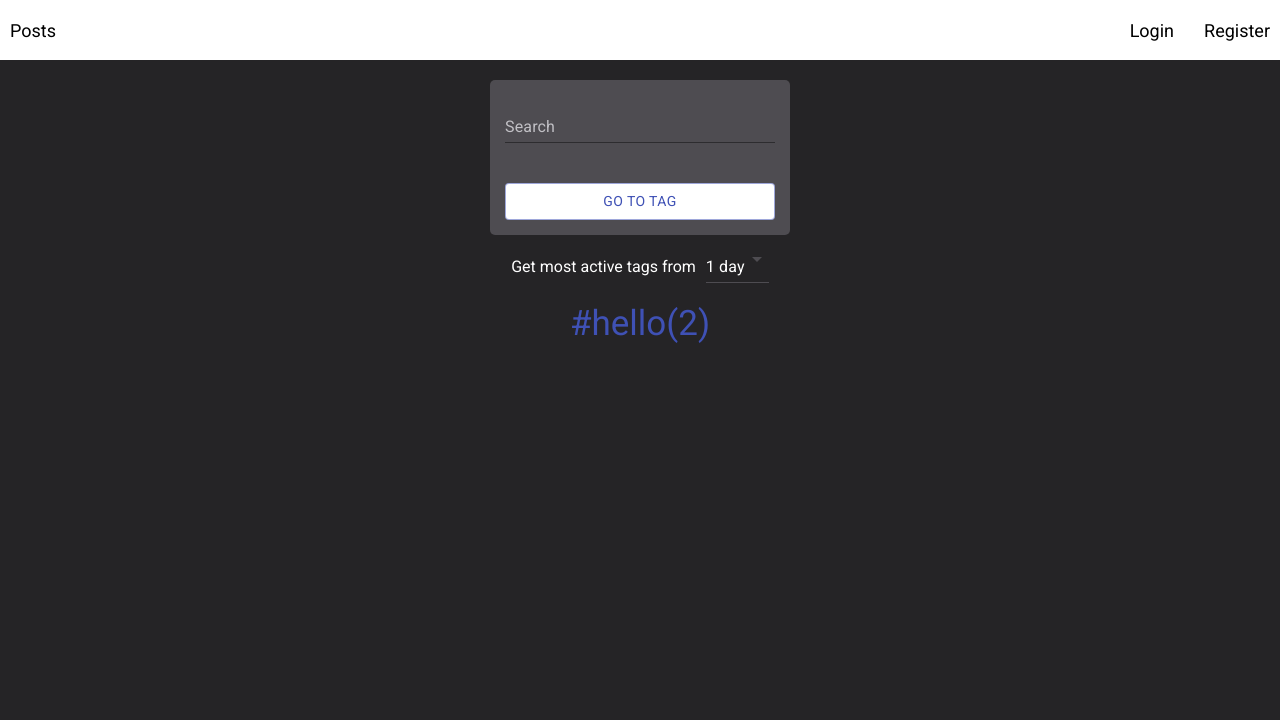
Test: Test correct register
Click the link with test id "registerPage" at (1237, 30), box x1=1204 y1=20 x2=1270 y2=40
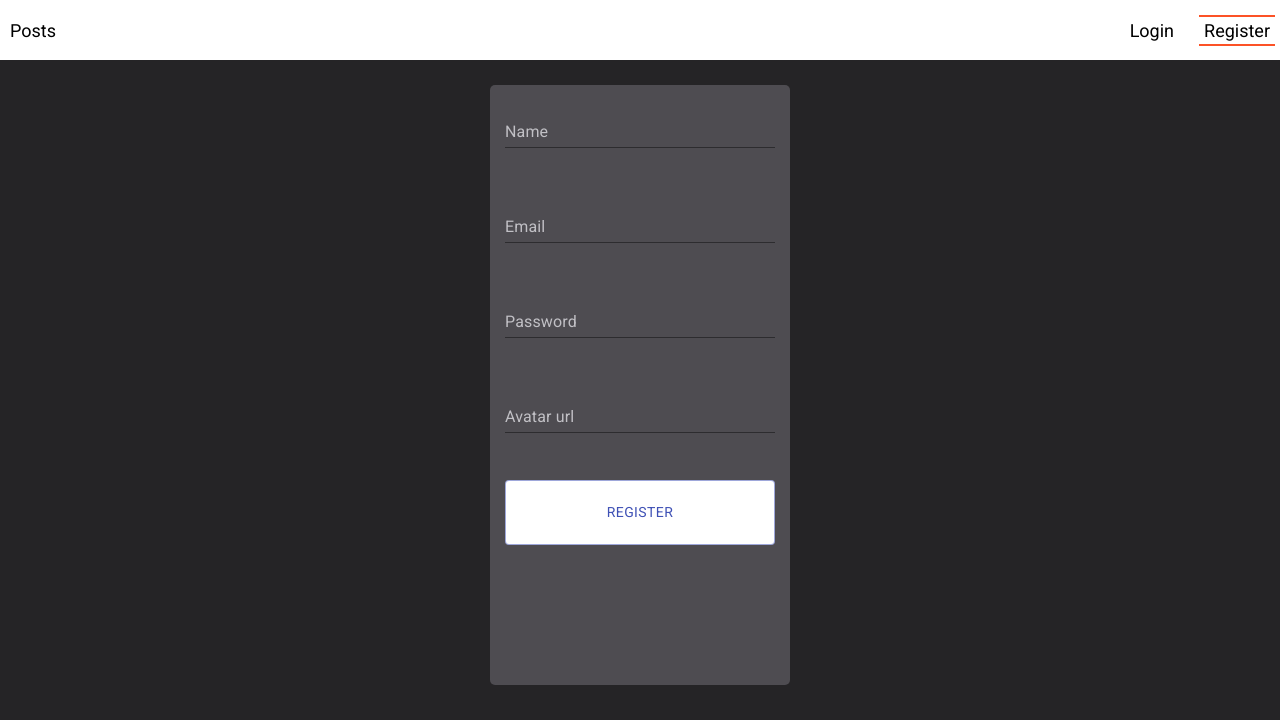
Type "TestUser" into the field with test id "registerFormName" at (640, 132), box x1=505 y1=116 x2=775 y2=148
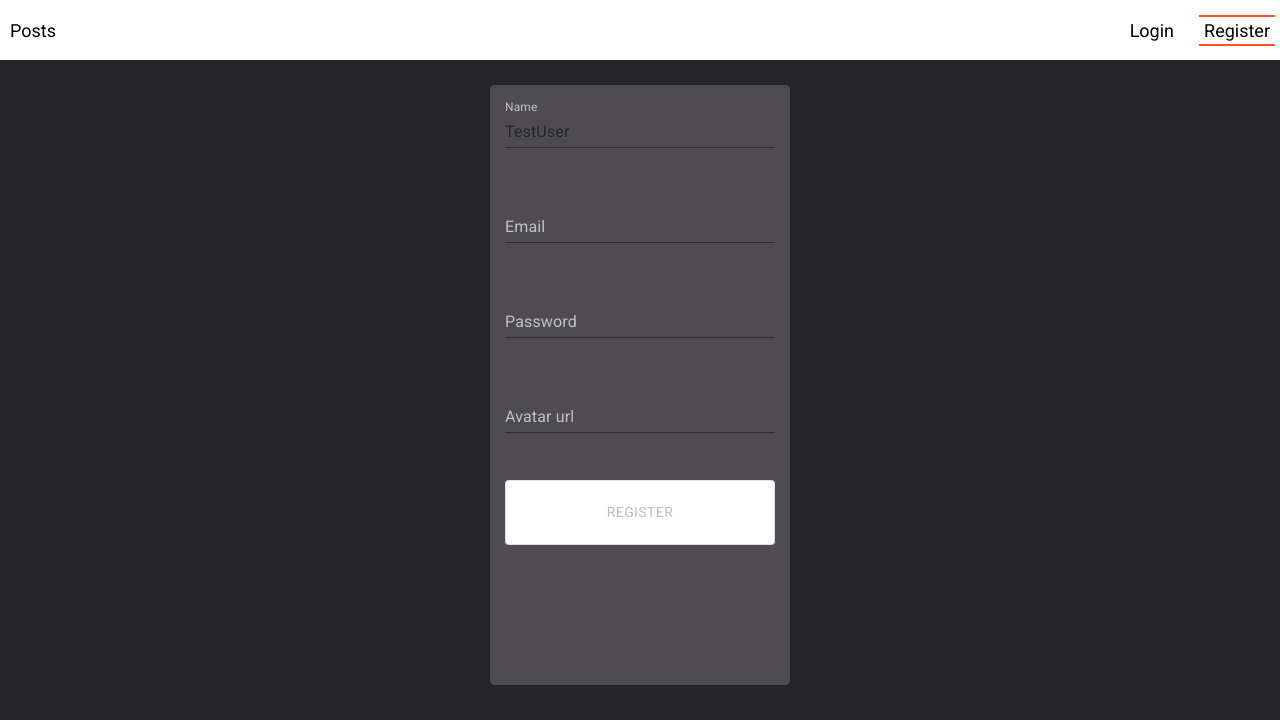
Type "testTest" into the password field with test id "registerFormPassword" at (640, 322), box x1=505 y1=306 x2=775 y2=338
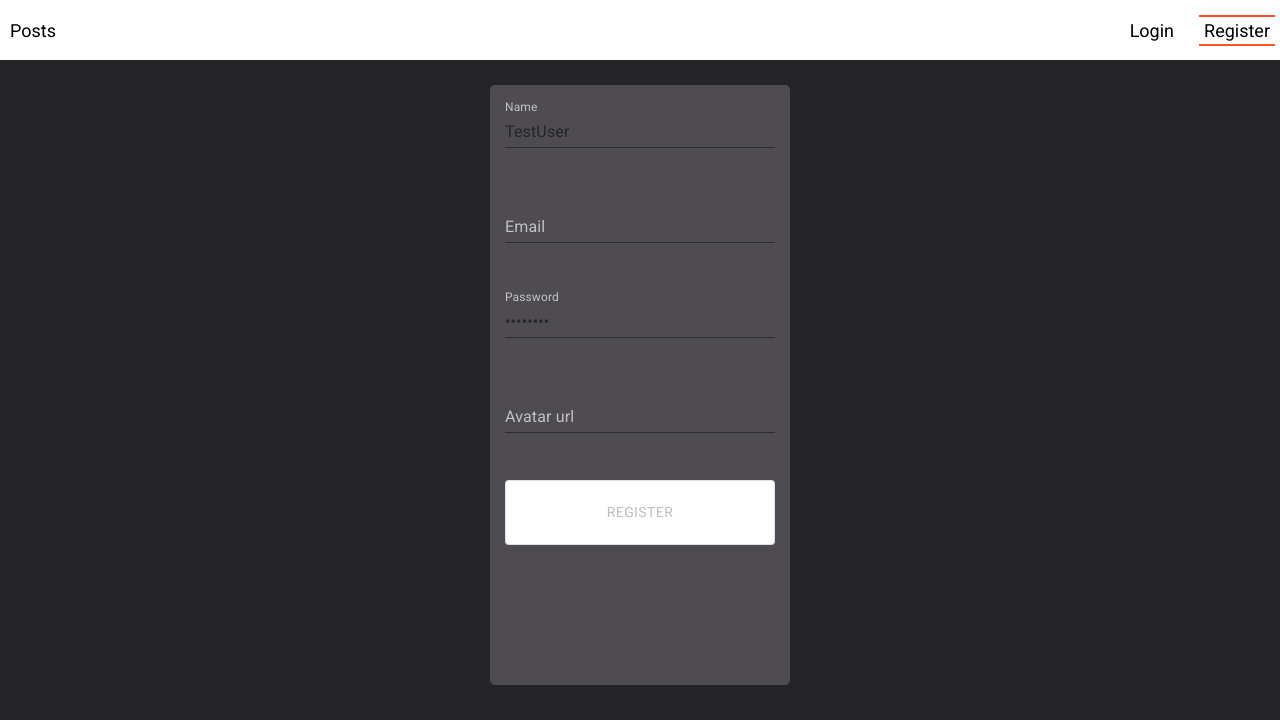
Type "testEmail@gmail.com" into the field with test id "registerFormEmail" at (640, 227), box x1=505 y1=211 x2=775 y2=243
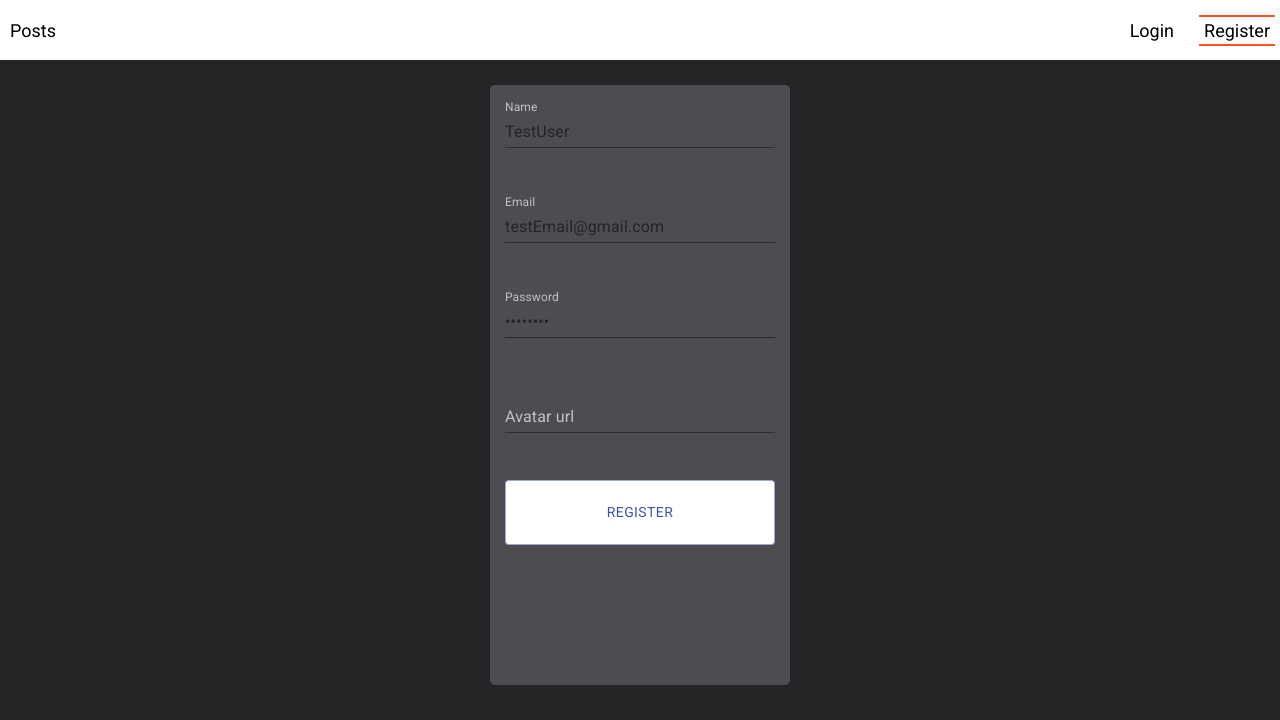
Type "testAvatarUrl" into the field with test id "registerFormAvatarUrl" at (640, 417), box x1=505 y1=401 x2=775 y2=433
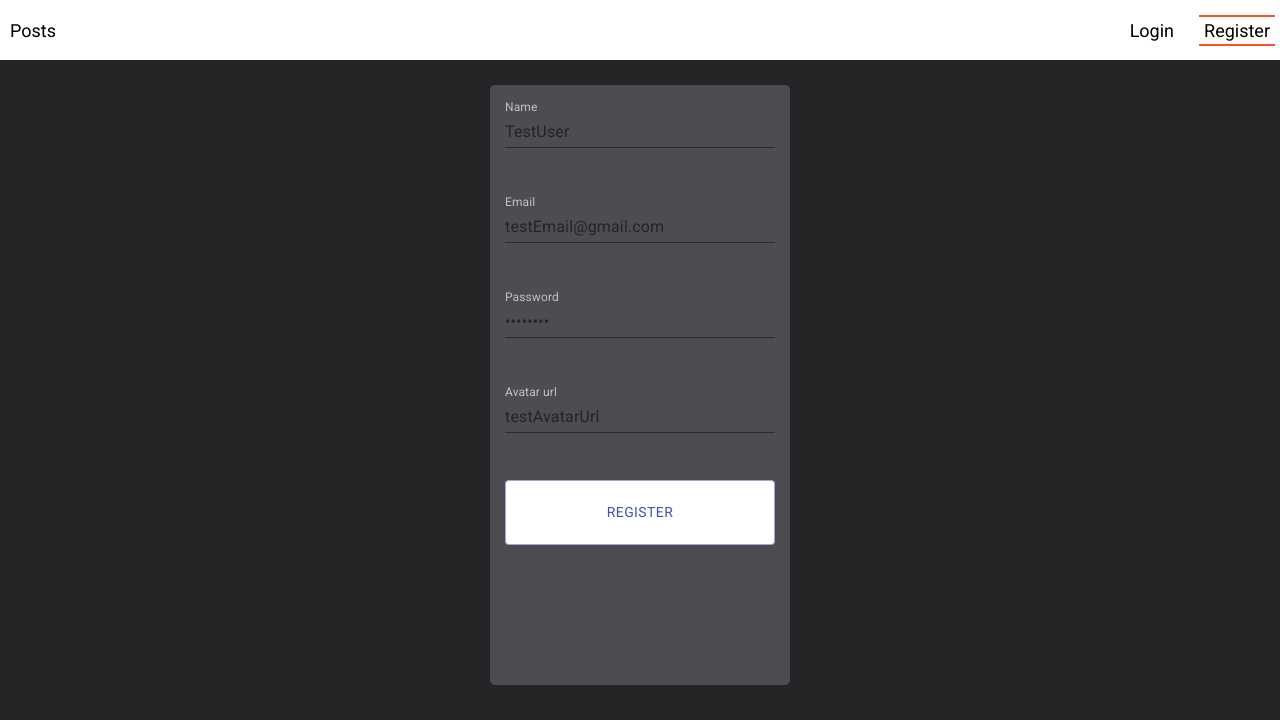
Click the button with test id "registerSubmitButton" at (640, 512), box x1=505 y1=480 x2=775 y2=545
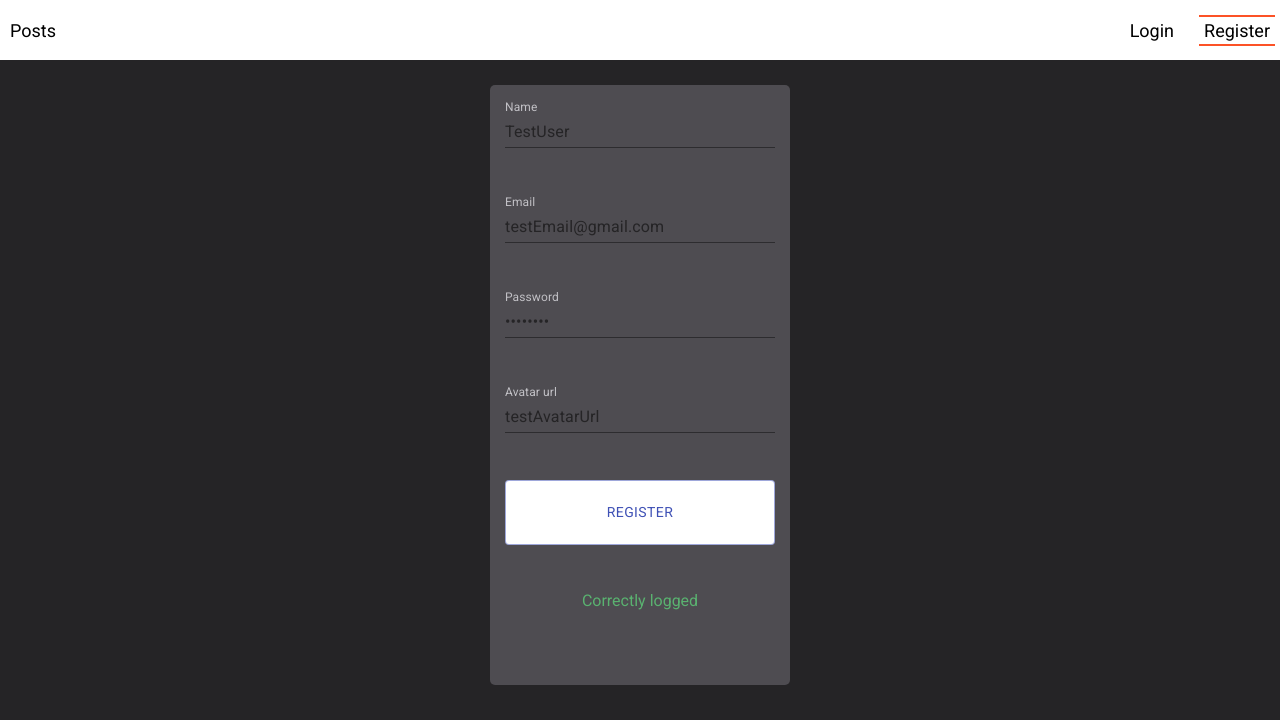
Check: the list item "Correctly logged" is shown, box x1=582 y1=591 x2=698 y2=610
